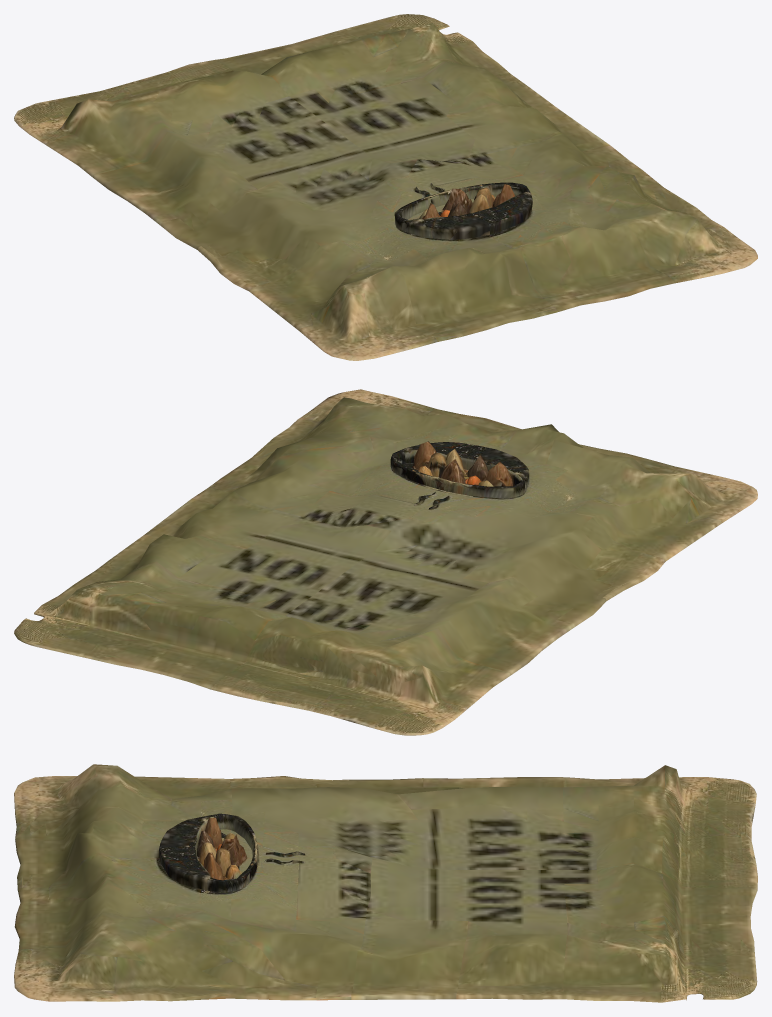
File: food-field-ration.glb
3 renders of one model, top to bottom at view 1: azimuth 30°, elevation 25°; view 2: azimuth 150°, elevation 25°; view 3: azimuth 270°, elevation 25°, orthographic. The views are drawn at different scales.
Visible parts, largest first — view 1: food-field-ration; view 2: food-field-ration; view 3: food-field-ration.
Part boxes in pixels (x1,y1,x2,y2): food-field-ration: (14,14,757,360); food-field-ration: (14,389,757,735); food-field-ration: (14,764,757,1002).
Bounding box in the file's own units: 0.1436 × 0.02 × 0.2.
Materials: 1 (1 with a texture image).
